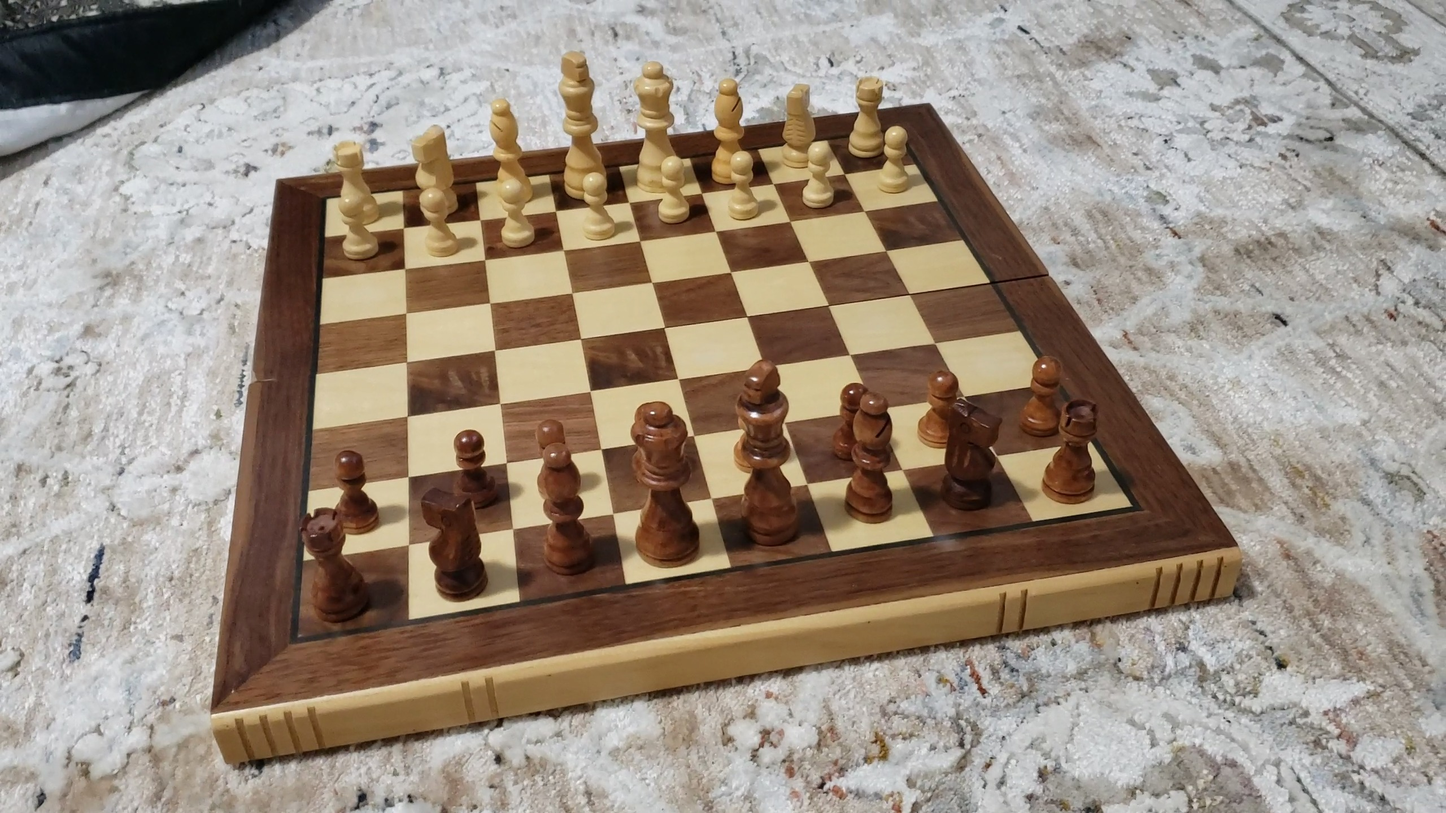black-bishop: (533, 416, 595, 575), (838, 386, 897, 523)
black-king: (730, 352, 802, 549)
black-knight: (419, 486, 489, 602), (938, 397, 1004, 512)
black-pawn: (451, 426, 502, 512), (1018, 352, 1068, 439), (332, 447, 380, 535), (917, 368, 963, 450), (830, 379, 871, 463)
black-queen: (623, 398, 706, 570)
black-rook: (300, 509, 373, 625), (1041, 399, 1102, 505)
white-bishop: (485, 91, 535, 206), (707, 72, 747, 180), (780, 79, 815, 170)
white-king: (555, 44, 607, 206)
white-knight: (402, 115, 467, 215)
white-pawn: (330, 191, 388, 266), (489, 173, 540, 254), (572, 168, 621, 247), (416, 184, 463, 263), (651, 152, 697, 229), (872, 121, 917, 198), (796, 136, 841, 213), (720, 147, 762, 225)
white-queen: (631, 55, 682, 187)
white-rook: (328, 136, 385, 225), (847, 71, 887, 162)
